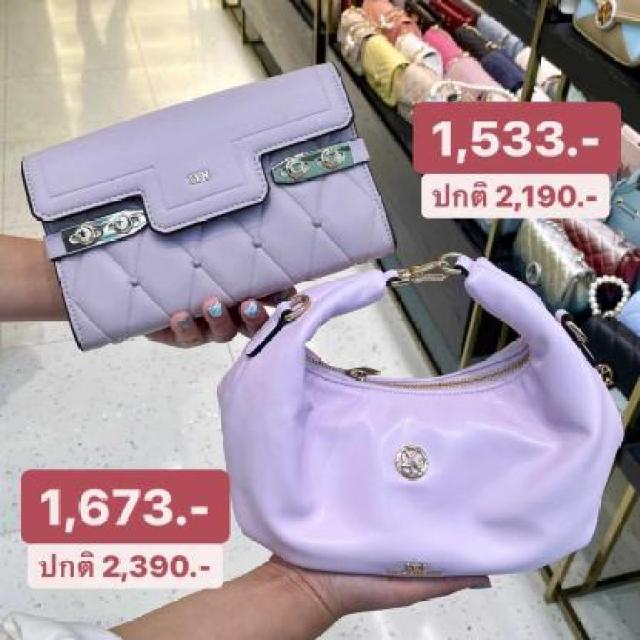Bag: (186, 252, 639, 598), (0, 63, 412, 370)
